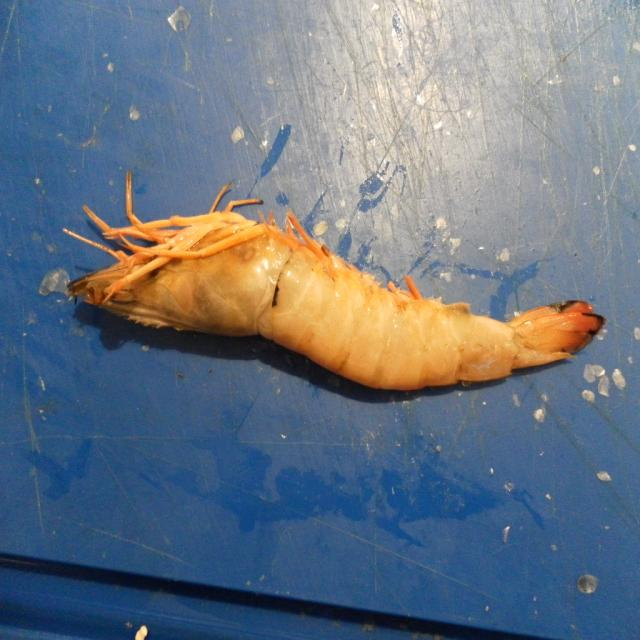Shrimp-karides-: (61, 174, 606, 394)
